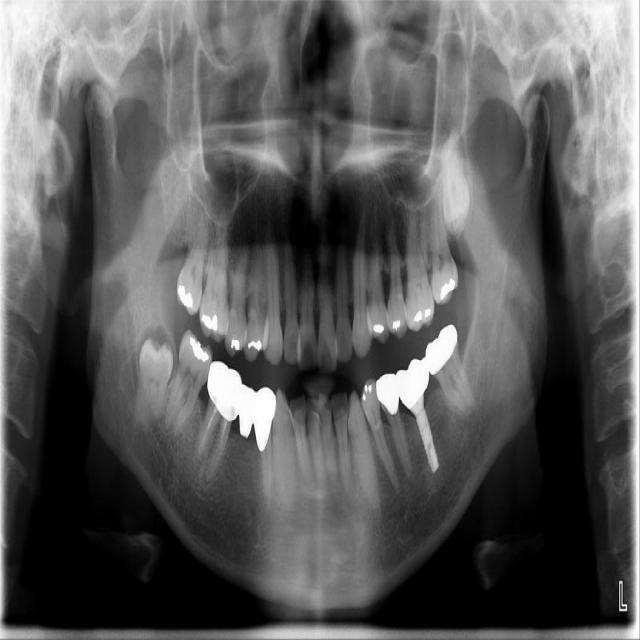52: (364, 321, 479, 425), (188, 349, 297, 453), (163, 327, 227, 390), (399, 280, 440, 335), (196, 288, 232, 344), (241, 308, 272, 364), (431, 251, 458, 305), (363, 298, 393, 346), (175, 264, 203, 315), (356, 376, 384, 425), (383, 293, 411, 341), (223, 308, 249, 359)
73: (186, 396, 238, 486), (600, 592, 606, 602)
BioHorizons Implant: (425, 177, 460, 306)
BioLife Implant: (440, 136, 472, 236)
Caries: (174, 187, 213, 316)
Implant: (161, 328, 219, 438)
Keystone Dental Implant: (133, 336, 175, 431)
